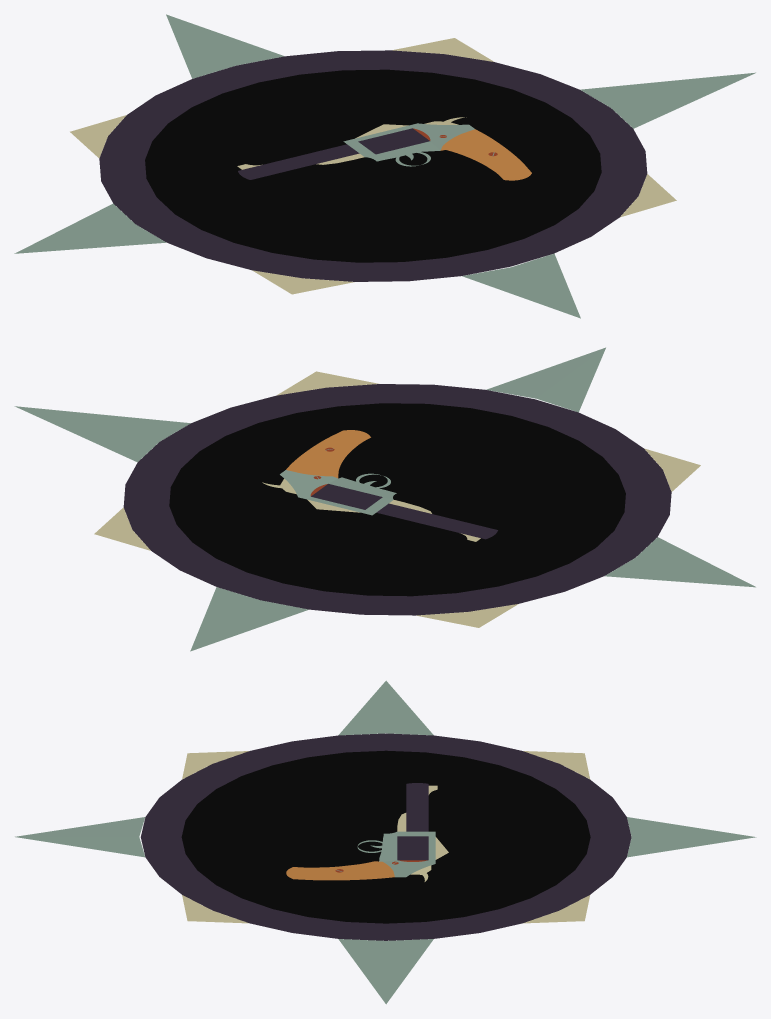
3 views of the same model, one above another, from view 1: azimuth 30°, elevation 25°; view 2: azimuth 150°, elevation 25°; view 3: azimuth 270°, elevation 25° (orthographic). The views are drawn at different scales.
Visible parts, largest first — view 1: Circle.002, Circle, Plane; view 2: Circle.002, Circle, Plane; view 3: Circle.002, Circle, Plane.
Part boxes in pixels (x1=…): Circle.002: x1=99, y1=50, x2=647, y2=281; Circle: x1=14, y1=14, x2=755, y2=318; Plane: x1=237, y1=117, x2=531, y2=180; Circle.002: x1=123, y1=384, x2=671, y2=615; Circle: x1=14, y1=347, x2=755, y2=651; Plane: x1=262, y1=430, x2=497, y2=541; Circle.002: x1=140, y1=733, x2=631, y2=940; Circle: x1=15, y1=680, x2=756, y2=1004; Plane: x1=286, y1=783, x2=448, y2=881.
Size of the model in its own units: 30584 by 320 by 29636.
